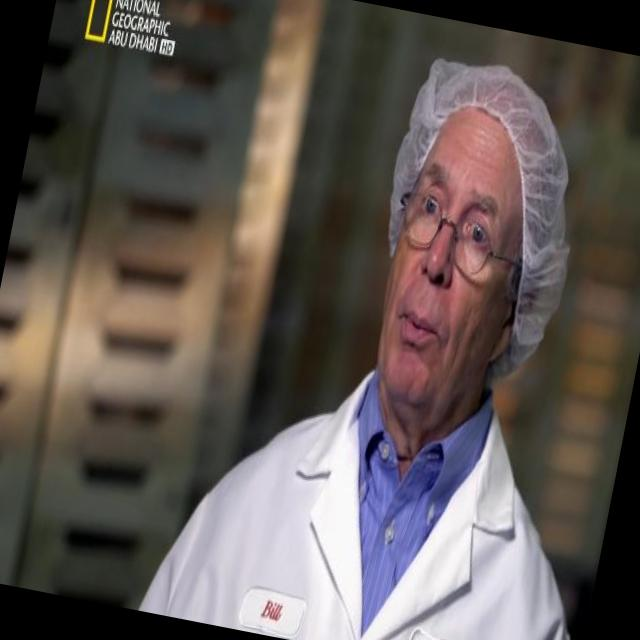hairnet: (398, 60, 573, 218)
